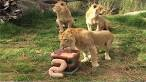lion: (63, 26, 115, 71), (84, 2, 114, 31), (50, 1, 78, 31)
